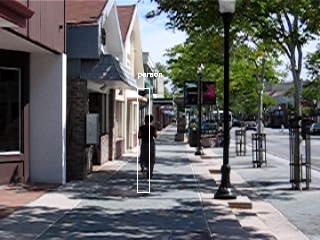person: (137, 115, 158, 181), (136, 115, 157, 181), (138, 115, 159, 181), (137, 114, 158, 180), (137, 116, 158, 182)
target_negative: (2, 34, 73, 204), (52, 165, 91, 176), (281, 158, 292, 184), (255, 237, 319, 240), (259, 50, 286, 56)
